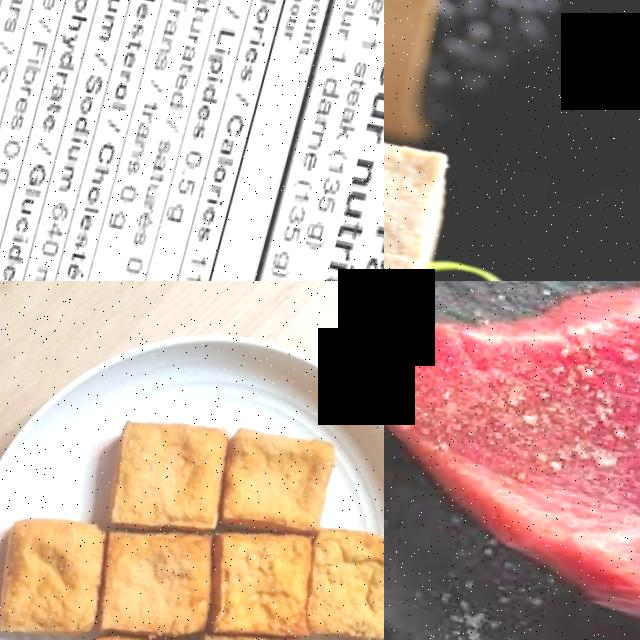tofu: (94, 403, 241, 548), (212, 419, 345, 548), (0, 502, 122, 640), (92, 518, 227, 640), (384, 93, 462, 281), (297, 523, 384, 640)
tuna: (384, 281, 640, 640)
